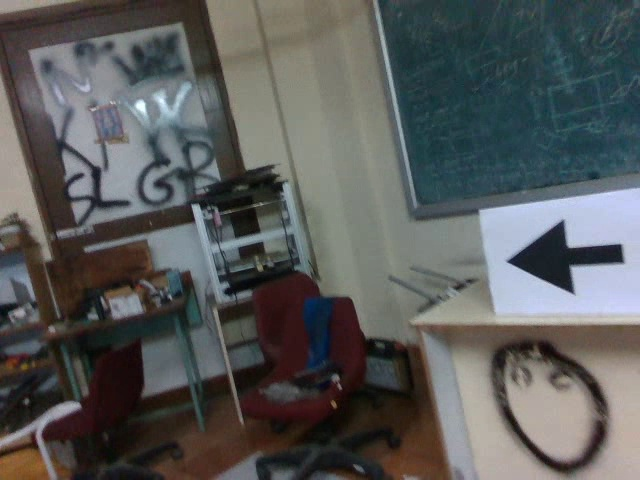Left: (500, 216, 629, 299)
